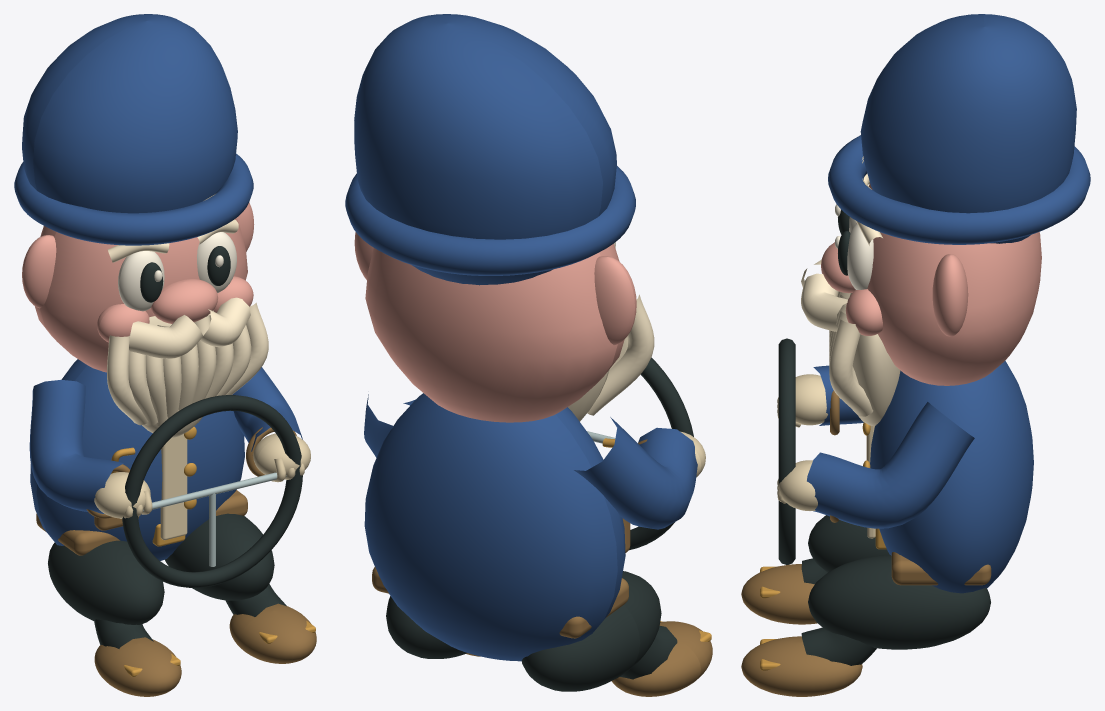
File: bork.glb
The picture shows the model from 3 angles, left to right: view 1: azimuth 30°, elevation 25°; view 2: azimuth 150°, elevation 25°; view 3: azimuth 270°, elevation 25°; orthographic projection. The views are drawn at different scales.
Parts seen in each view (by area): view 1: blue_1, blue, skin, dark_body, ivory, leather, dark_steering, cream_steering, white, cream_body, steel_steering, dark_1 (+1 smaller); view 2: blue, blue_1, skin, dark_body, leather, ivory, dark_steering; view 3: blue_1, blue, skin, dark_body, leather, ivory, cream_steering, dark_steering, white, brass_body, dark_1.
Part boxes in pixels (x1=…): blue_1: x1=14, y1=14, x2=253, y2=245; blue: x1=29, y1=359, x2=302, y2=560; skin: x1=22, y1=202, x2=254, y2=372; dark_body: x1=48, y1=395, x2=286, y2=648; ivory: x1=107, y1=219, x2=268, y2=437; leather: x1=36, y1=427, x2=316, y2=696; dark_steering: x1=122, y1=401, x2=302, y2=587; cream_steering: x1=94, y1=433, x2=310, y2=518; white: x1=118, y1=232, x2=236, y2=311; cream_body: x1=160, y1=434, x2=187, y2=540; steel_steering: x1=143, y1=472, x2=286, y2=566; dark_1: x1=140, y1=246, x2=230, y2=302; blue: x1=364, y1=393, x2=697, y2=661; blue_1: x1=345, y1=14, x2=635, y2=285; skin: x1=354, y1=232, x2=636, y2=422; dark_body: x1=386, y1=364, x2=686, y2=691; leather: x1=372, y1=439, x2=712, y2=696; ivory: x1=568, y1=294, x2=654, y2=421; dark_steering: x1=629, y1=357, x2=693, y2=550; blue_1: x1=828, y1=14, x2=1090, y2=244; blue: x1=807, y1=360, x2=1033, y2=593; skin: x1=821, y1=183, x2=1041, y2=385; dark_body: x1=778, y1=338, x2=990, y2=665; leather: x1=741, y1=390, x2=991, y2=696; ivory: x1=801, y1=173, x2=900, y2=425; cream_steering: x1=777, y1=374, x2=827, y2=510; dark_steering: x1=778, y1=388, x2=792, y2=564; white: x1=835, y1=184, x2=873, y2=289; brass_body: x1=760, y1=422, x2=886, y2=670; dark_1: x1=838, y1=210, x2=850, y2=275.
Bounding box in the file's own units: 0.3218 × 0.71 × 0.351.
